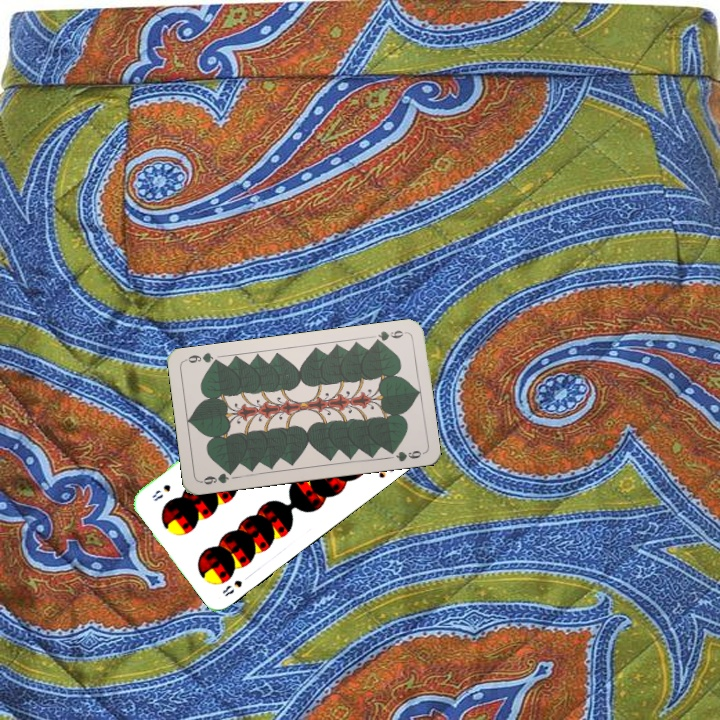G9: (197, 466, 237, 487), (369, 326, 409, 346)
S8: (218, 576, 245, 599)
